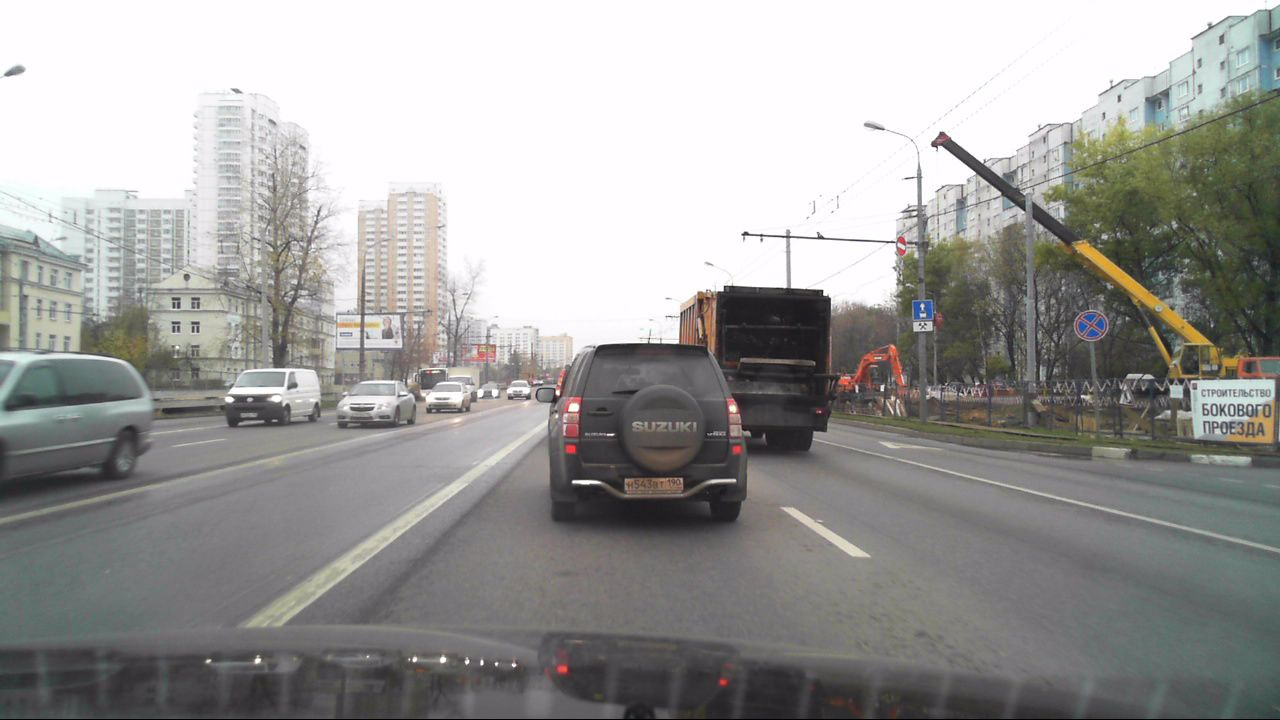No Parking: (1073, 308, 1109, 342)
